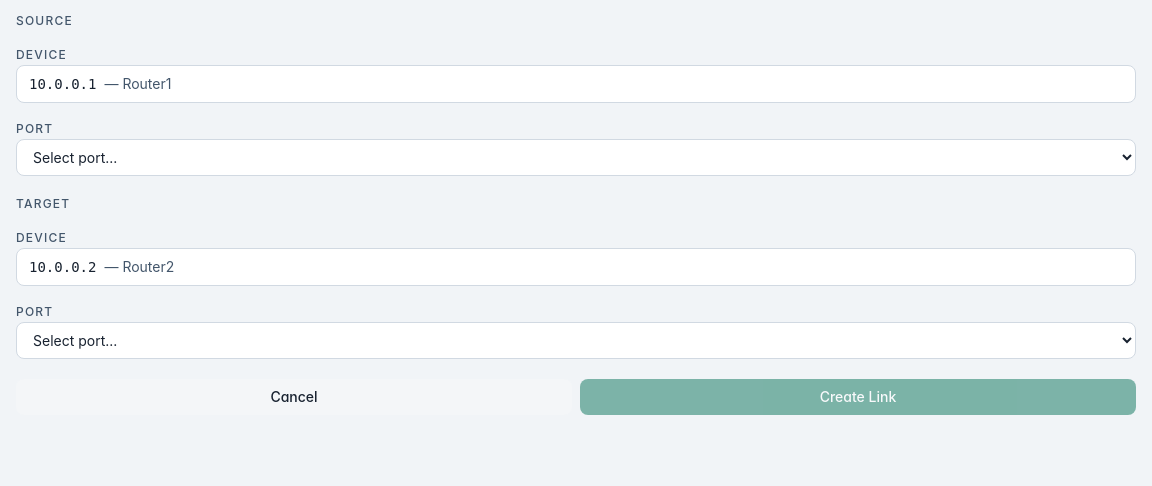
Test: LinkCreatePanel — handleSubmit catch handles typed errors › shows ValidationError message when createLink throws ValidationError
Select "ether1 1G up" in the dropdown below "Source": (576, 158) [16,139,1136,176]
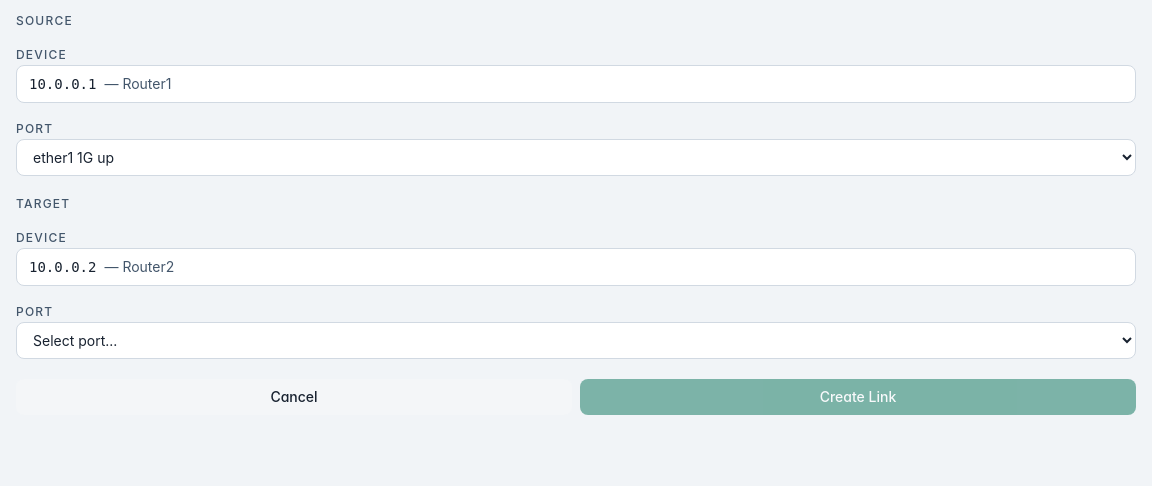
Select "ether1 1G up" in the dropdown below "Target": (576, 340) [16,322,1136,359]
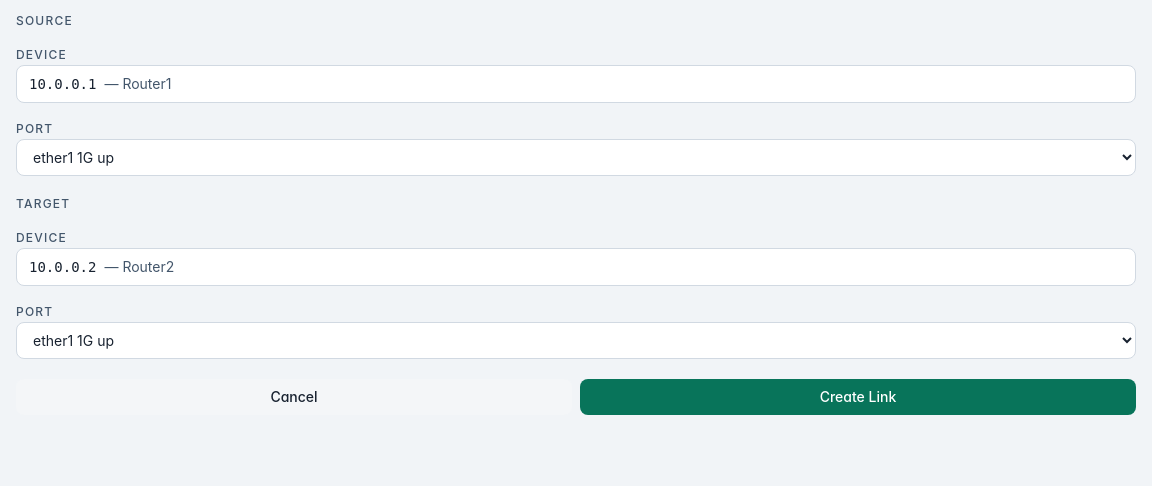
Click the button "Create Link": click(858, 397) [580,379,1136,415]
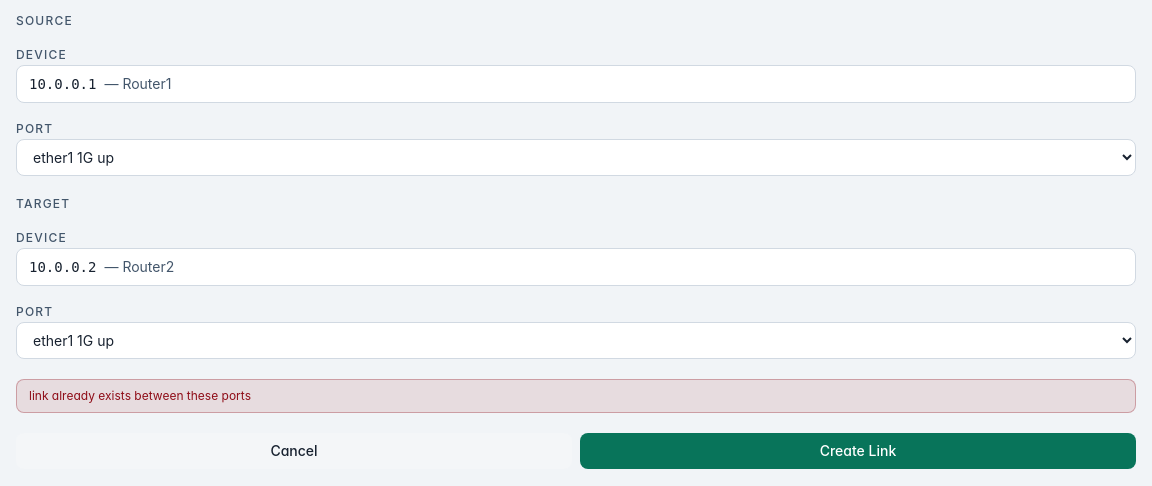
Now the text "link already exists between these ports" is shown, box [16,379,1136,413]
